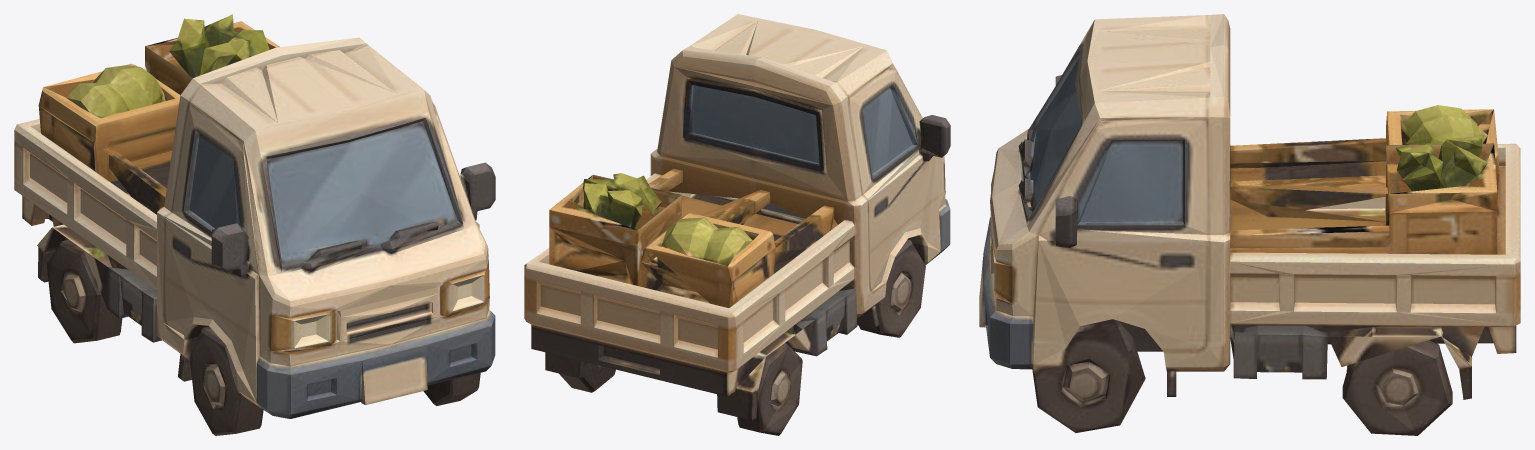
Rendered from truck-CEEIXowf.glb.
3 views of the same model, side by side, from view 1: azimuth 30°, elevation 25°; view 2: azimuth 150°, elevation 25°; view 3: azimuth 270°, elevation 25° (orthographic). The views are drawn at different scales.
Parts seen in each view (by area): view 1: tripo_node_2b7e3d86-3bf1-4faf-8649-4b0fef655a48; view 2: tripo_node_2b7e3d86-3bf1-4faf-8649-4b0fef655a48; view 3: tripo_node_2b7e3d86-3bf1-4faf-8649-4b0fef655a48.
Part boxes in pixels (x1=…): tripo_node_2b7e3d86-3bf1-4faf-8649-4b0fef655a48: x1=14, y1=14, x2=495, y2=435; tripo_node_2b7e3d86-3bf1-4faf-8649-4b0fef655a48: x1=524, y1=14, x2=950, y2=435; tripo_node_2b7e3d86-3bf1-4faf-8649-4b0fef655a48: x1=979, y1=14, x2=1520, y2=435.
Bounding box in the file's own units: 0.5954 × 0.6758 × 0.9783.
1 material, 1 textured.
